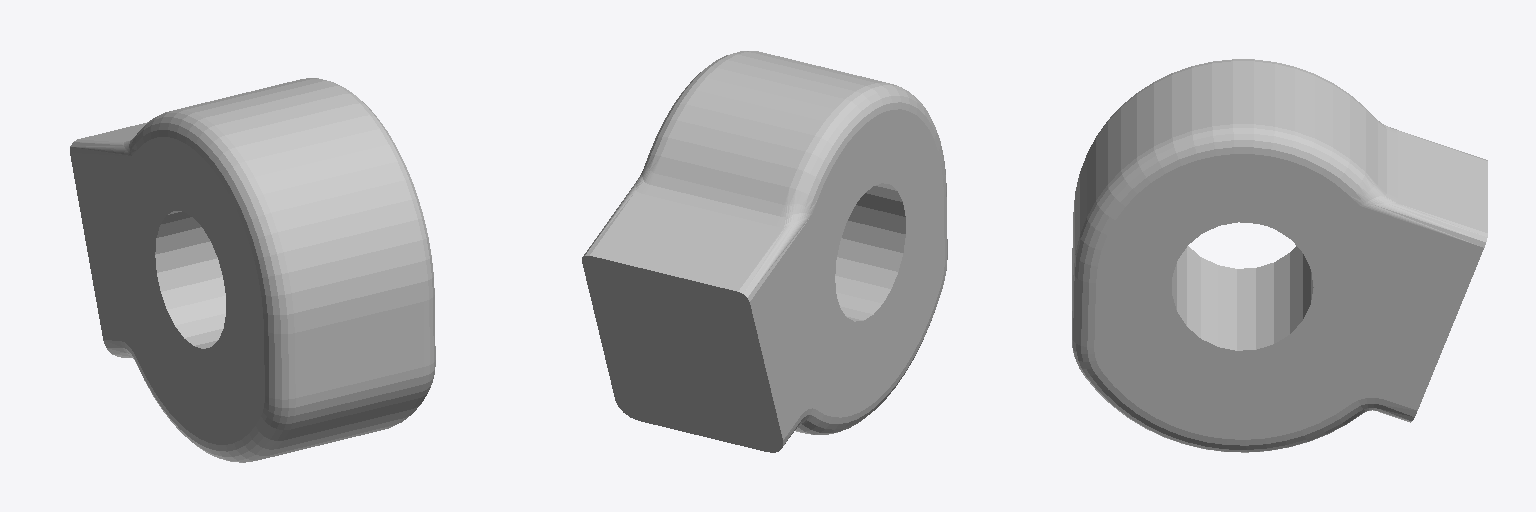
File: head_1.obj
The picture shows the model from 3 angles: view 1: azimuth 30°, elevation 25°; view 2: azimuth 150°, elevation 25°; view 3: azimuth 270°, elevation 25°; orthographic projection.
Parts seen in each view (by area): view 1: head_1; view 2: head_1; view 3: head_1.
Part boxes in pixels (x1,y1,x2,y2): head_1: (70, 78, 435, 462); head_1: (582, 51, 947, 452); head_1: (1072, 59, 1487, 452).
Size of the model in its own units: 0.086 by 0.1599 by 0.1848.